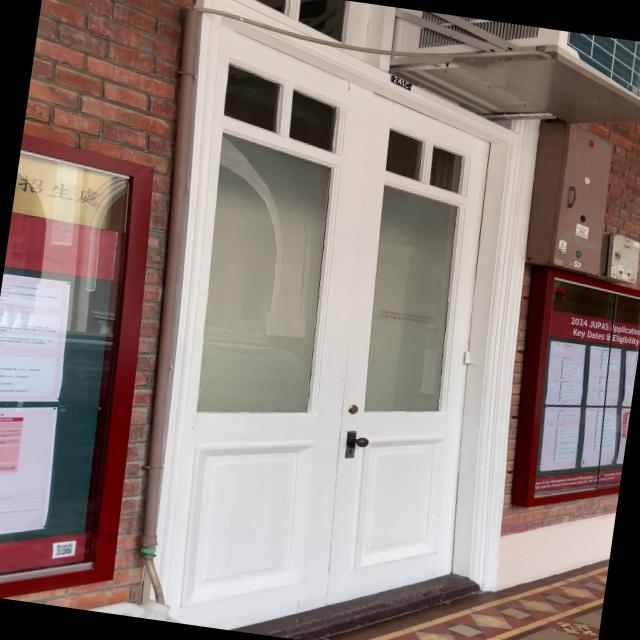room241c: (386, 71, 416, 92)
